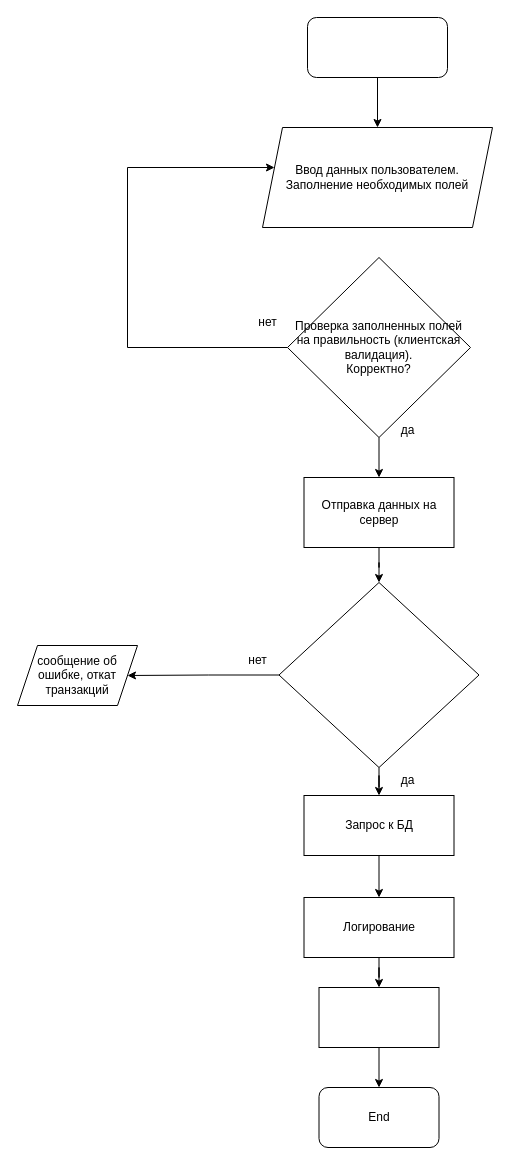
Image size: 510x1165. Some labels were removed from this diagram. The centre of each missing label's shape, as x and y in pixels:
Start: (377,47)
Ответ, уведомление о результате: (378,1017)
Проверка данных на стороне сервера (Серверная проверка). Корректно?: (378,675)
